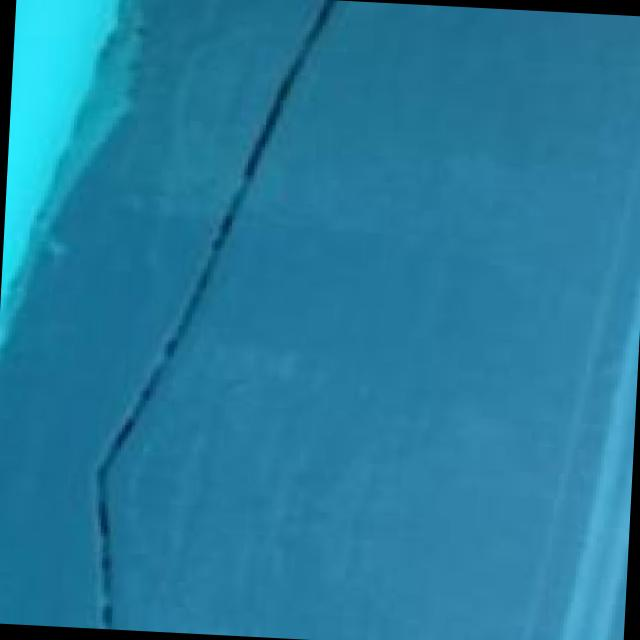crack: (50, 0, 355, 640)
